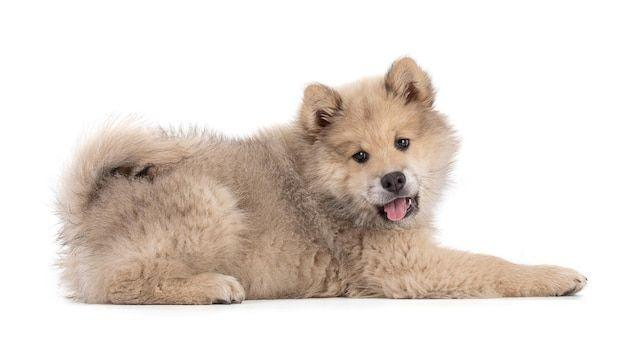puppy-dog: (51, 54, 590, 311)
